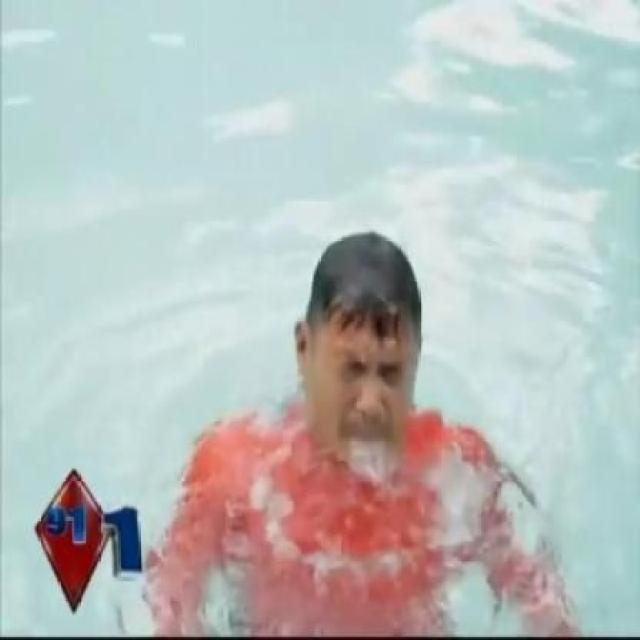Drowning: (144, 229, 585, 640)
